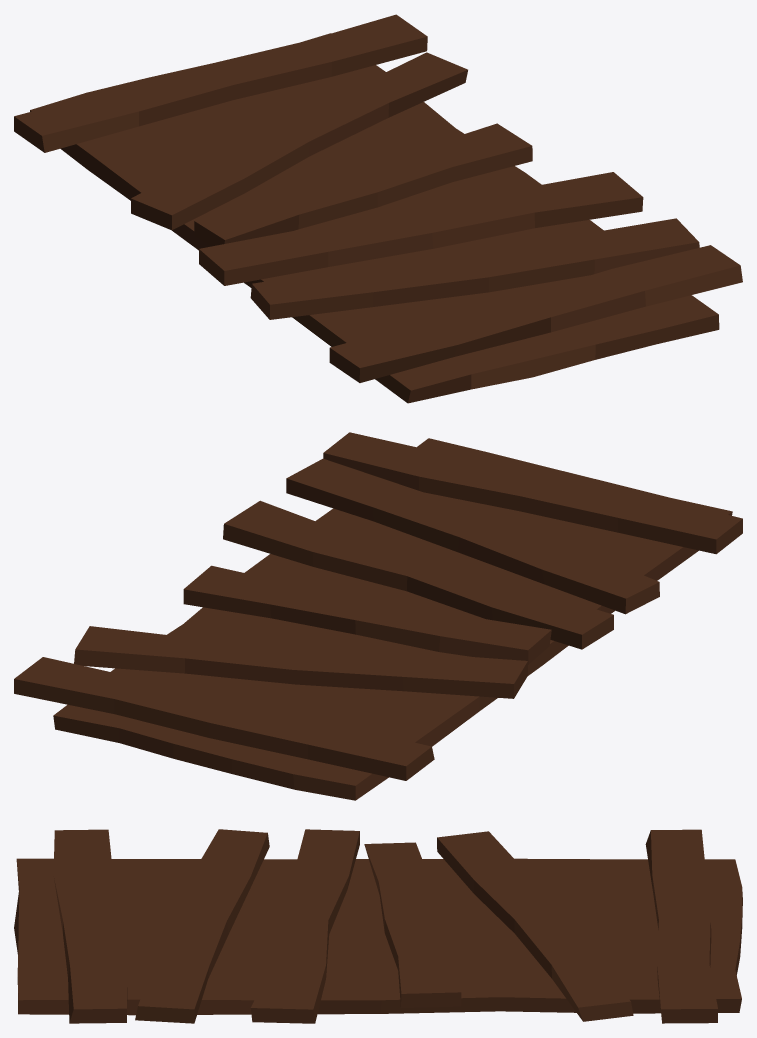
The model's file is ramp_1.fbx.
The picture shows the model from 3 angles, top to bottom: view 1: azimuth 30°, elevation 25°; view 2: azimuth 150°, elevation 25°; view 3: azimuth 270°, elevation 25°; orthographic projection. The views are drawn at different scales.
Parts seen in each view (by area): view 1: Cube.005; view 2: Cube.005; view 3: Cube.005.
Part boxes in pixels (left/top/right/bottom): Cube.005: left=14, top=14, right=742, bottom=403; Cube.005: left=14, top=432, right=742, bottom=800; Cube.005: left=14, top=829, right=742, bottom=1023.
Bounding box in the file's own units: 291 × 21.36 × 497.
